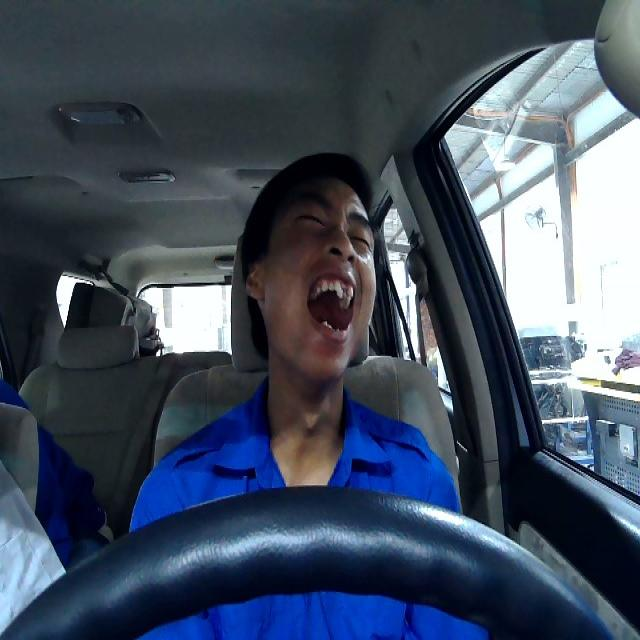yarning: (242, 177, 377, 383)
